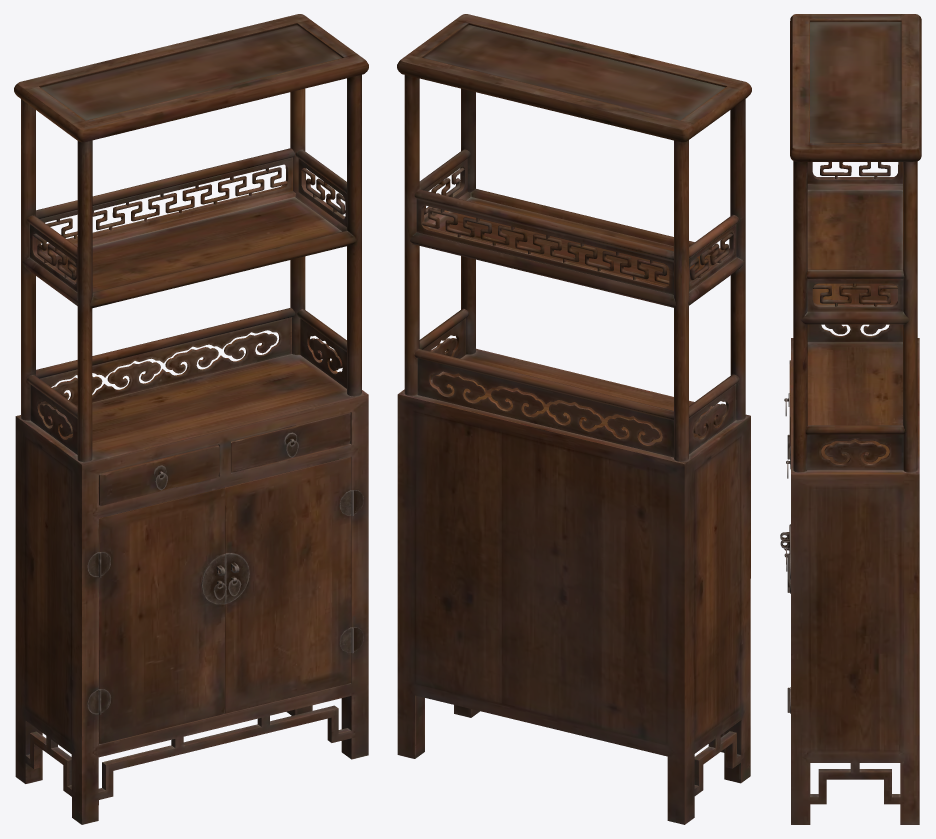
The model's file is chinese_cabinet.glb.
3 views of the same model, side by side, from view 1: azimuth 30°, elevation 25°; view 2: azimuth 150°, elevation 25°; view 3: azimuth 270°, elevation 25° (orthographic). The views are drawn at different scales.
Parts seen in each view (by area): view 1: Cube.013, chinese_cabinet; view 2: Cube.013; view 3: Cube.013, chinese_cabinet.
Part boxes in pixels (box(x1,y1,x2,y2)): Cube.013: box(14, 14, 368, 824); chinese_cabinet: box(98, 412, 353, 743); Cube.013: box(397, 14, 751, 824); Cube.013: box(790, 14, 921, 824); chinese_cabinet: box(780, 360, 790, 712).
Size of the model in its own units: 1.26 by 2.87 by 0.5452.
Materials: 1 (1 with a texture image).
